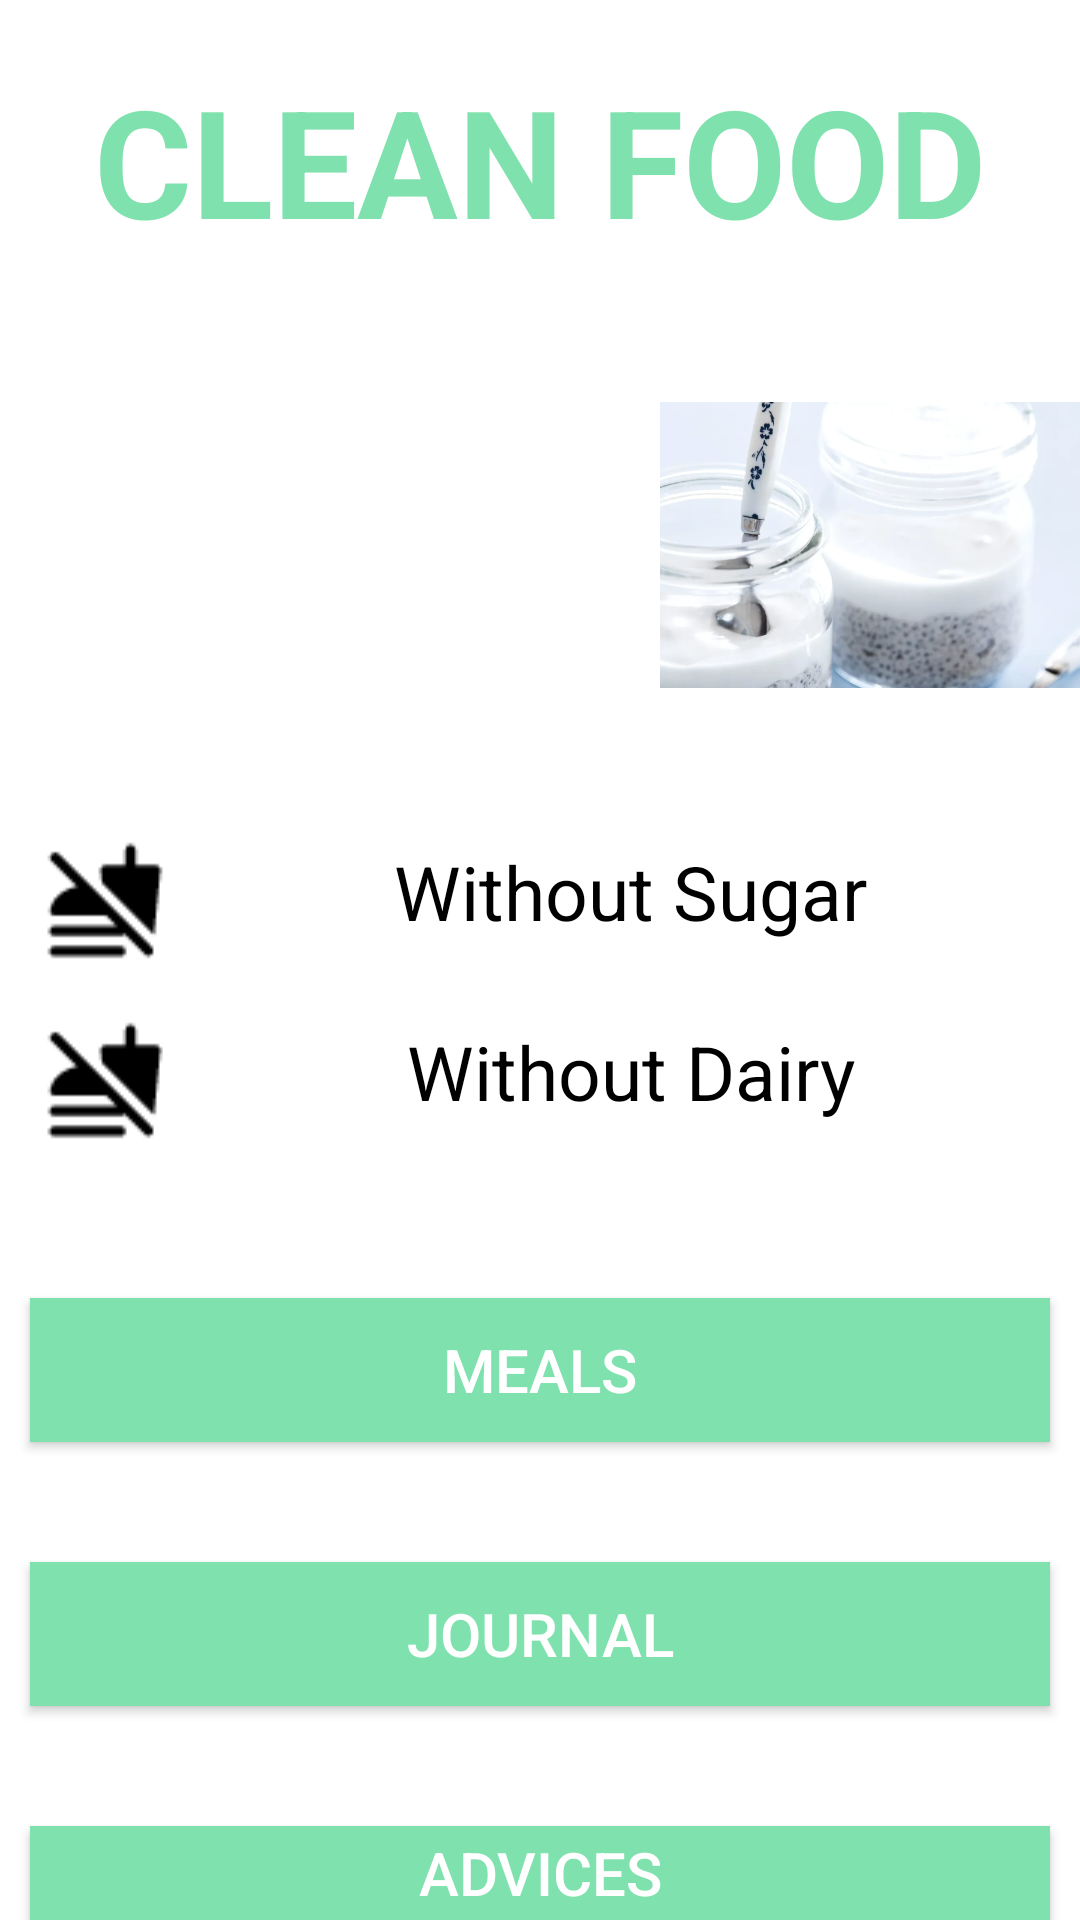

Icon click points for this 1080w x 1920h phone screenshot, format (x,y):
zabranajela: (105,900), (105,1080)
